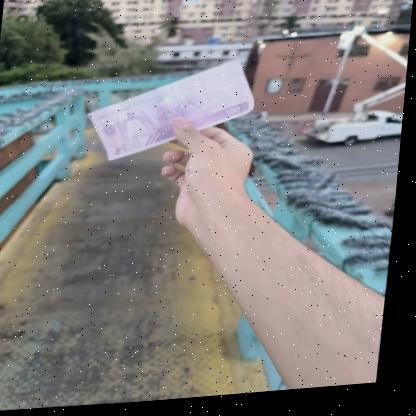one_hundred-back-vef: (83, 57, 261, 167)
